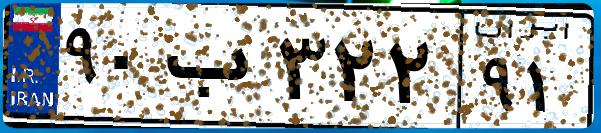0: (110, 28, 158, 98)
1: (525, 38, 570, 115)
2: (385, 28, 445, 110), (330, 28, 385, 110)
3: (270, 28, 330, 110)
9: (57, 26, 110, 100), (475, 38, 525, 113)
ب: (158, 20, 270, 120)
